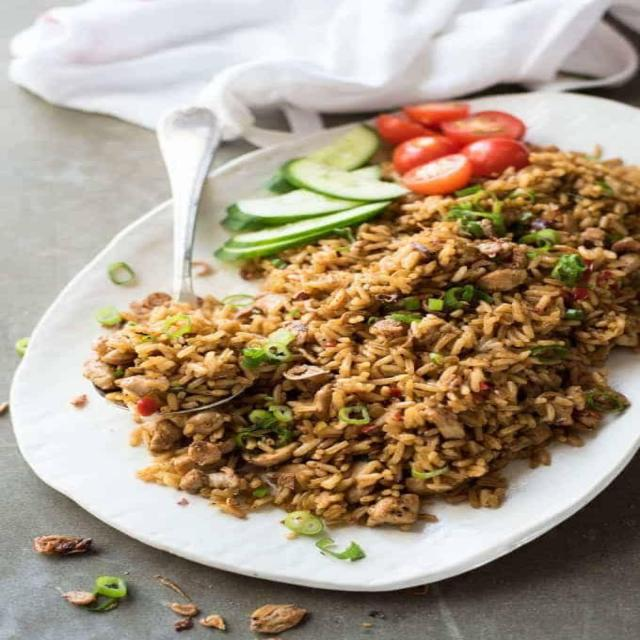Nasi Goreng: (84, 137, 637, 551)
